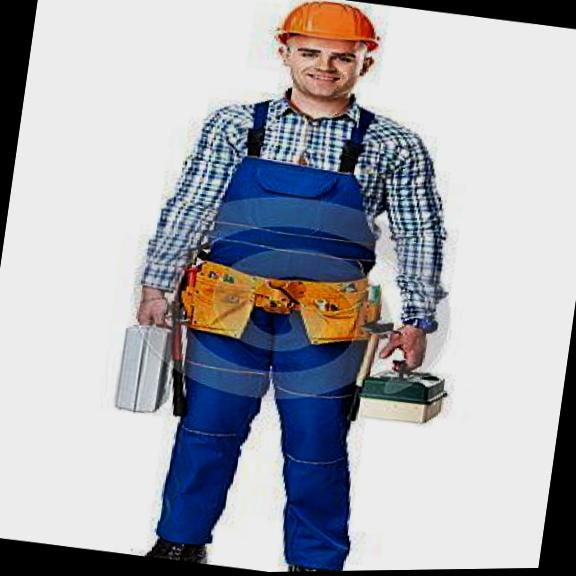no_safety_vest: (121, 89, 467, 418)
